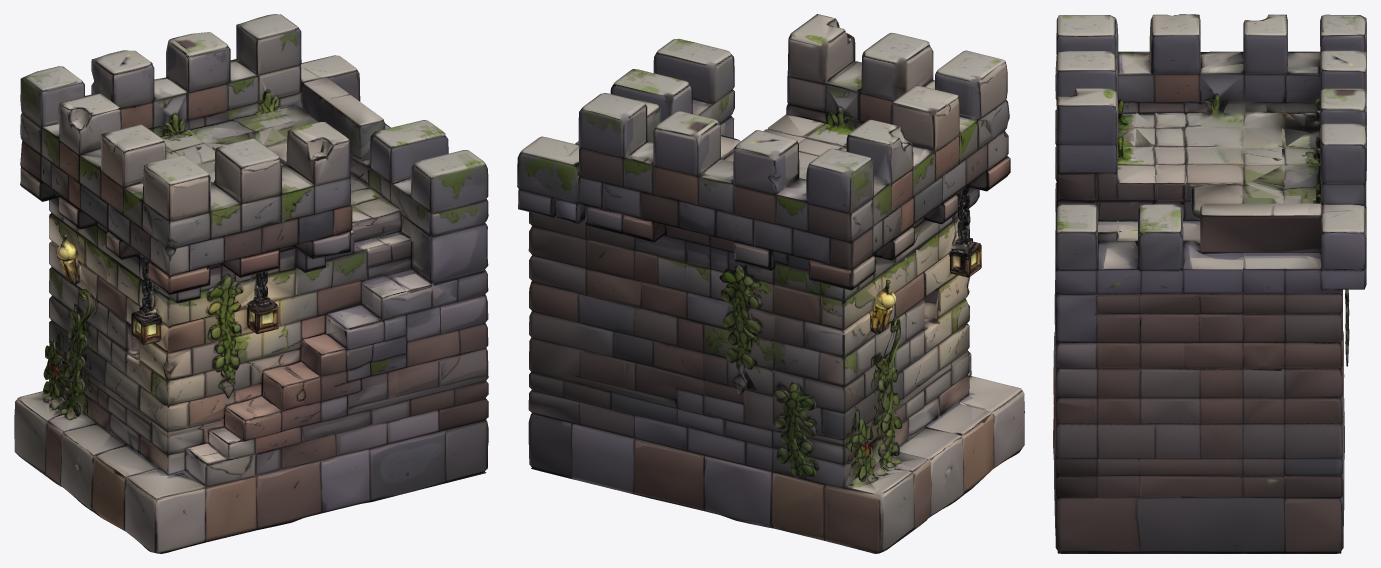
Rendered from GardenWall.fbx.
3 views of the same model, side by side, from view 1: azimuth 30°, elevation 25°; view 2: azimuth 150°, elevation 25°; view 3: azimuth 270°, elevation 25° (orthographic). The views are drawn at different scales.
Parts seen in each view (by area): view 1: Mesh_0; view 2: Mesh_0; view 3: Mesh_0.
Boxes of the visible parts, x1,y1,x2,y2 form: Mesh_0: [14, 14, 488, 553]; Mesh_0: [517, 14, 1024, 553]; Mesh_0: [1053, 14, 1366, 553].
Size of the model in its own units: 74.46 by 77.3 by 57.77.
1 material, 1 textured.
